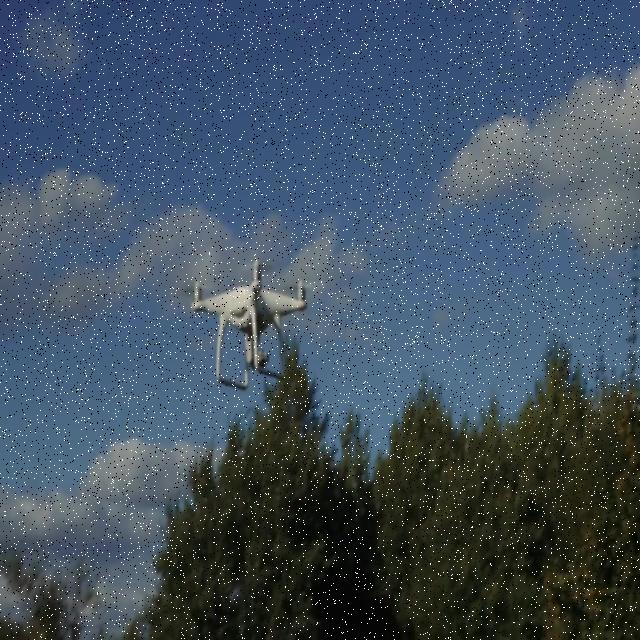UAV: (181, 258, 313, 391)
